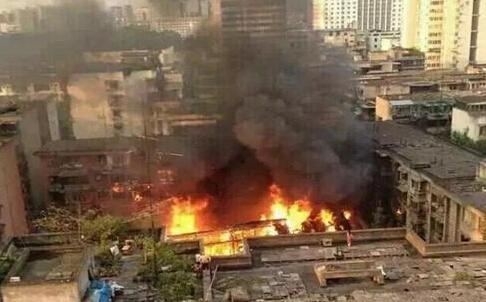fire: (167, 181, 346, 253)
